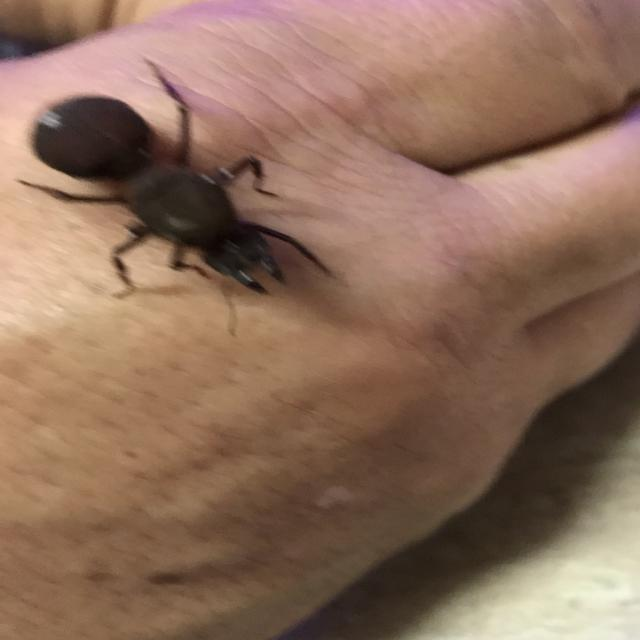Alive-Female-Dealate: (12, 56, 335, 338)
